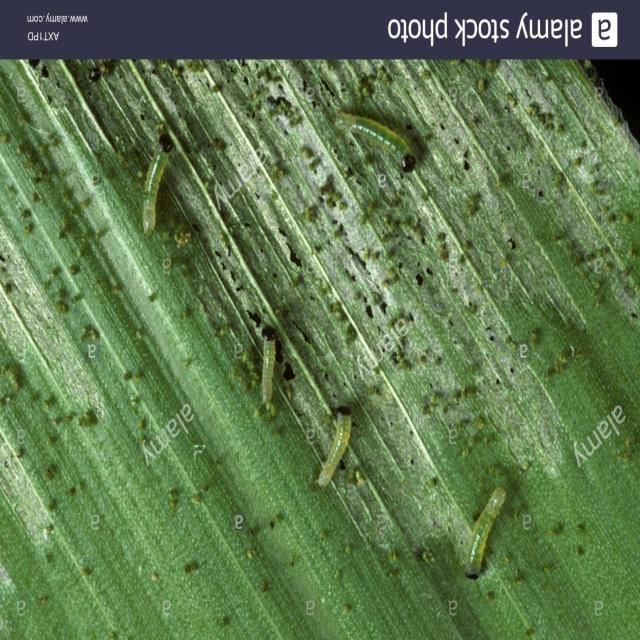army worm: (330, 108, 422, 175), (467, 481, 513, 588), (133, 137, 174, 239), (316, 403, 354, 498), (251, 327, 282, 413)
